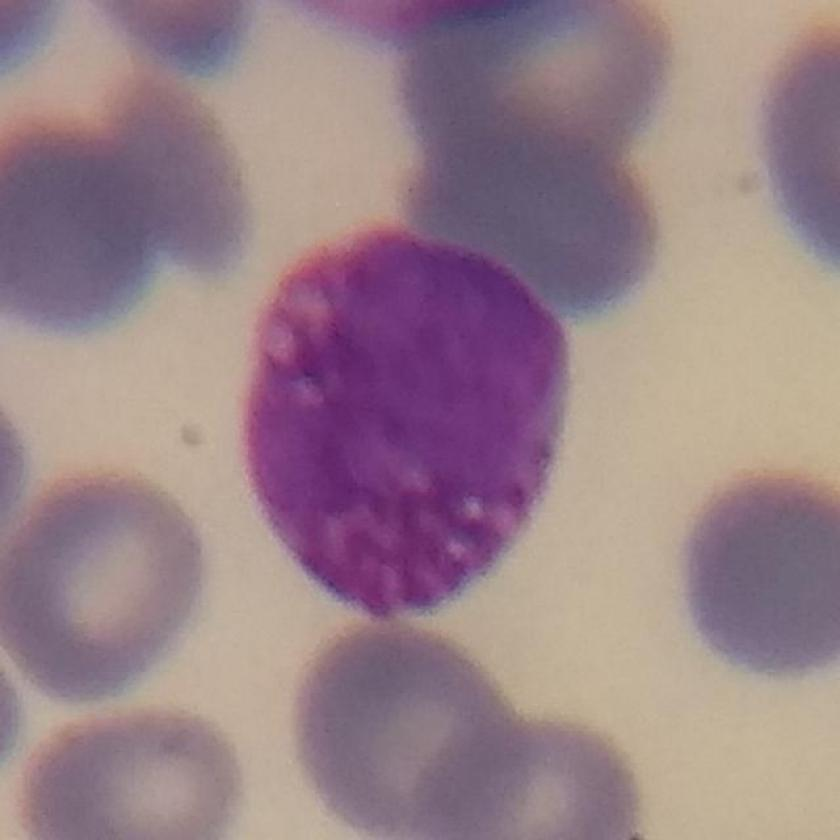basophil: (229, 206, 576, 630)
